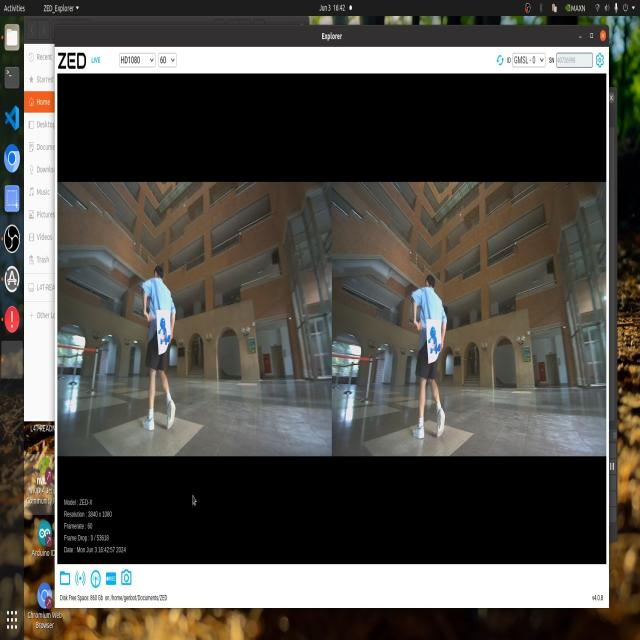blue: (159, 313, 173, 363), (428, 321, 442, 360)
